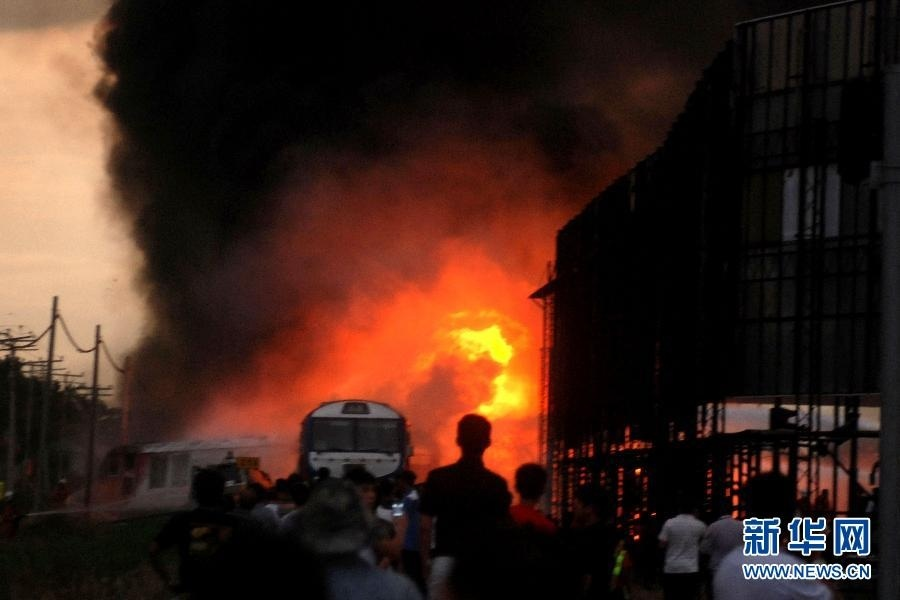fire: (417, 312, 533, 425)
